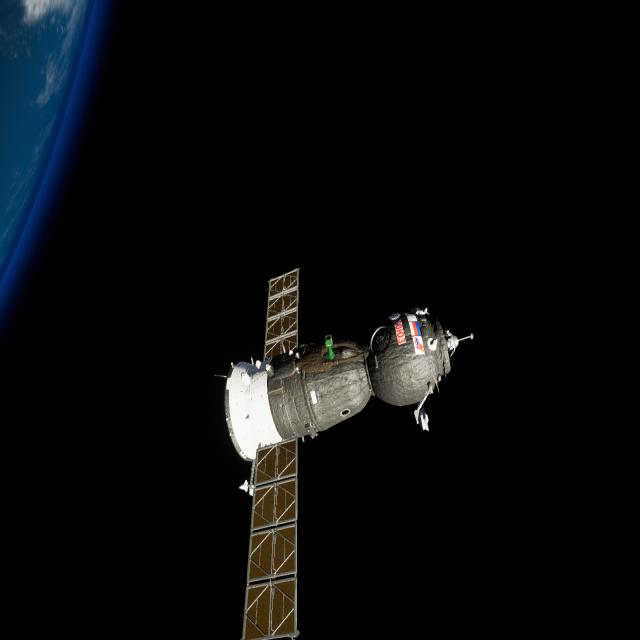Satellites revolving around earth: (221, 266, 475, 465)
